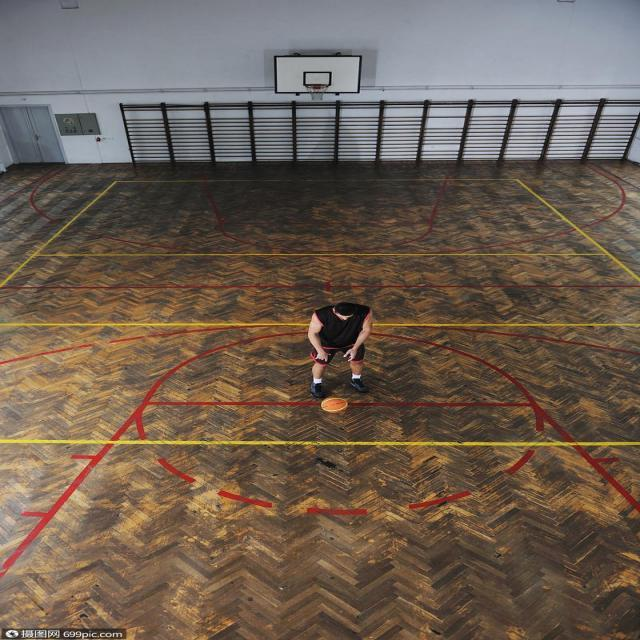rim: (318, 397, 348, 414)
